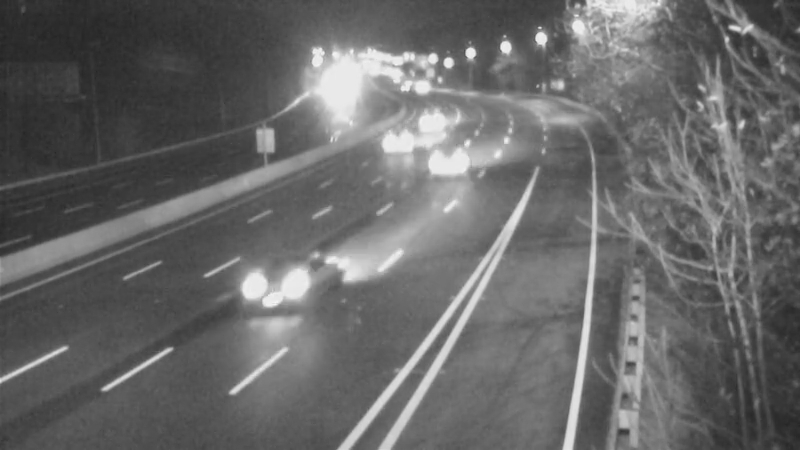vehicle: (221, 246, 331, 356), (414, 120, 494, 200), (396, 61, 446, 111), (406, 88, 456, 138), (377, 116, 427, 166)
